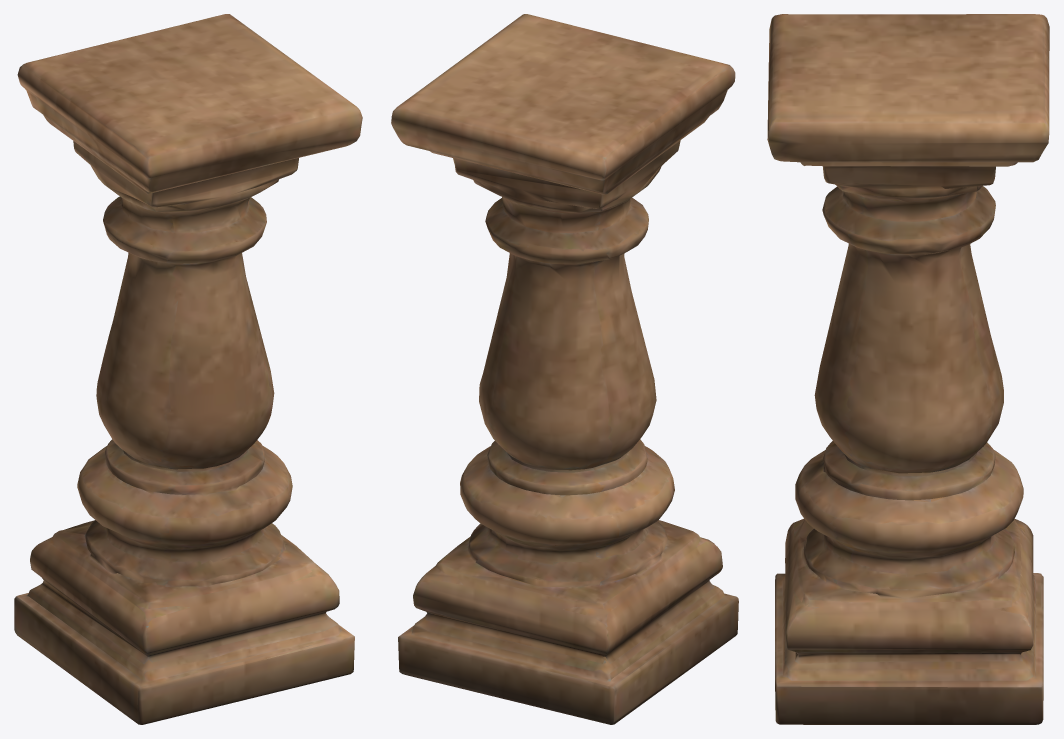
The model's file is ancient-sandstone-balustrade-v001.glb.
3 renders of one model, left to right at view 1: azimuth 30°, elevation 25°; view 2: azimuth 150°, elevation 25°; view 3: azimuth 270°, elevation 25°, orthographic. The views are drawn at different scales.
Visible parts, largest first — view 1: ancient-sandstone-balustrade; view 2: ancient-sandstone-balustrade; view 3: ancient-sandstone-balustrade.
Boxes of the visible parts, box(x1,y1,x2,y2) form: ancient-sandstone-balustrade: box(14, 14, 362, 724); ancient-sandstone-balustrade: box(391, 14, 738, 724); ancient-sandstone-balustrade: box(767, 14, 1049, 724).
Size of the model in its own units: 0.4398 by 1.09 by 0.4564.
Materials: 1 (1 with a texture image).
